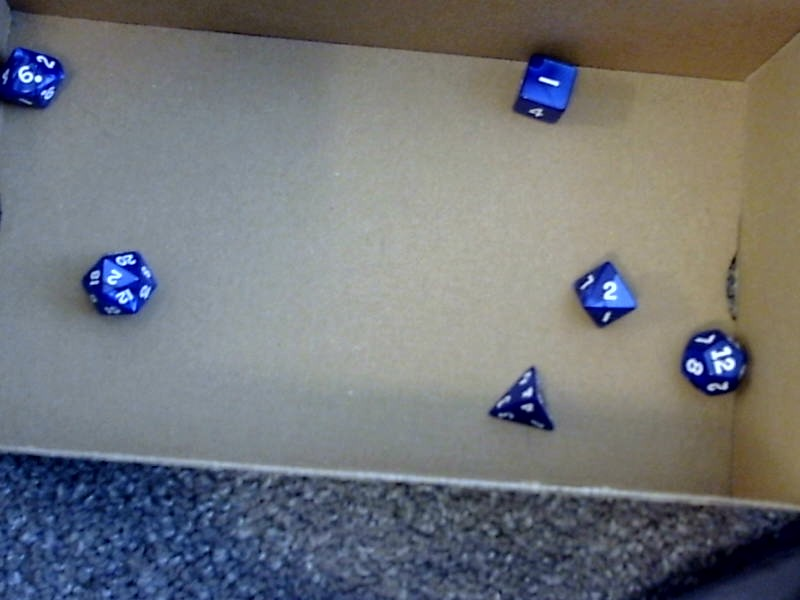d10 6: (0, 45, 67, 112)
d12 12: (675, 324, 752, 399)
d20 2: (75, 244, 158, 320)
d4 4: (485, 358, 557, 436)
d6 1: (507, 47, 581, 128)
d8 2: (569, 256, 639, 327)
